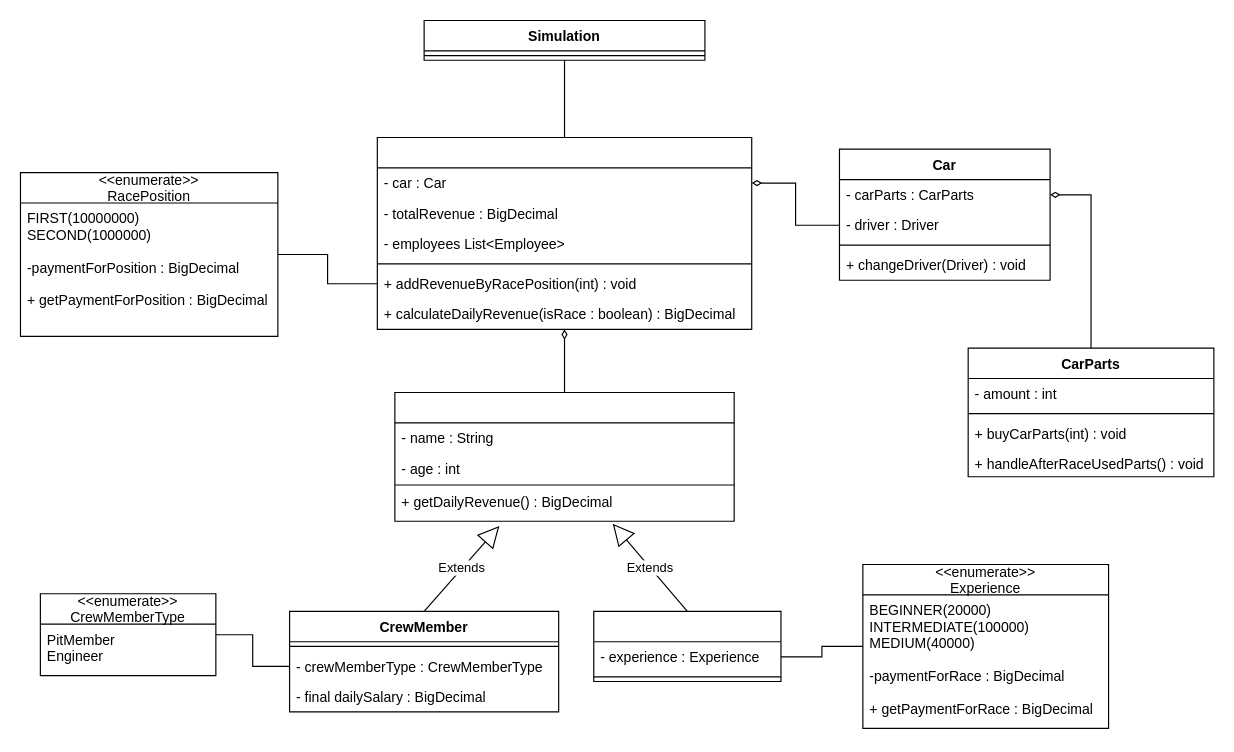
This 1234x752 diagram has some shape labels left out. Here are the shapes that lost their labels. From the top down, the box of each, then its label:
(376, 136, 752, 329): Team
(394, 391, 734, 521): Employee
(593, 610, 781, 682): Driver
